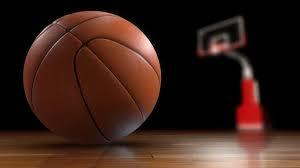basketball: (23, 10, 160, 144)
